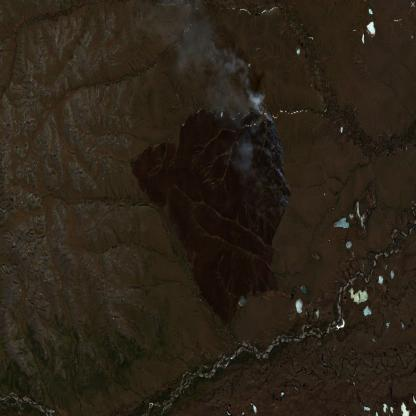fire: (251, 106, 293, 200)
